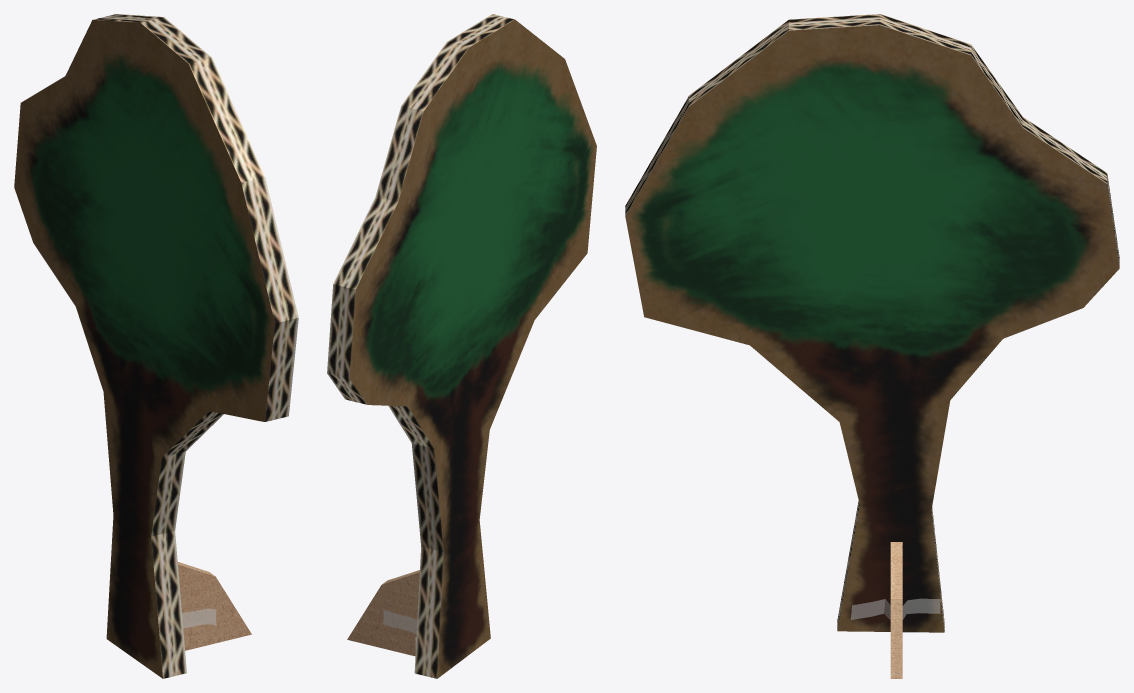
The model's file is Cardboard_tree1.fbx.
The picture shows the model from 3 angles, left to right: view 1: azimuth 30°, elevation 25°; view 2: azimuth 150°, elevation 25°; view 3: azimuth 270°, elevation 25°; orthographic projection. The views are drawn at different scales.
Parts seen in each view (by area): view 1: cardboard_tree1; view 2: cardboard_tree1; view 3: cardboard_tree1.
Part boxes in pixels (x1,y1,x2,y2): cardboard_tree1: (14,14,298,678); cardboard_tree1: (327,14,596,678); cardboard_tree1: (625,14,1119,678).
Bounding box in the file's own units: 704 × 3701 × 2714.
